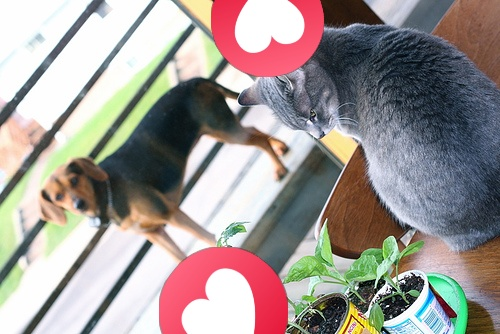love: (159, 247, 288, 334), (211, 0, 324, 77)
